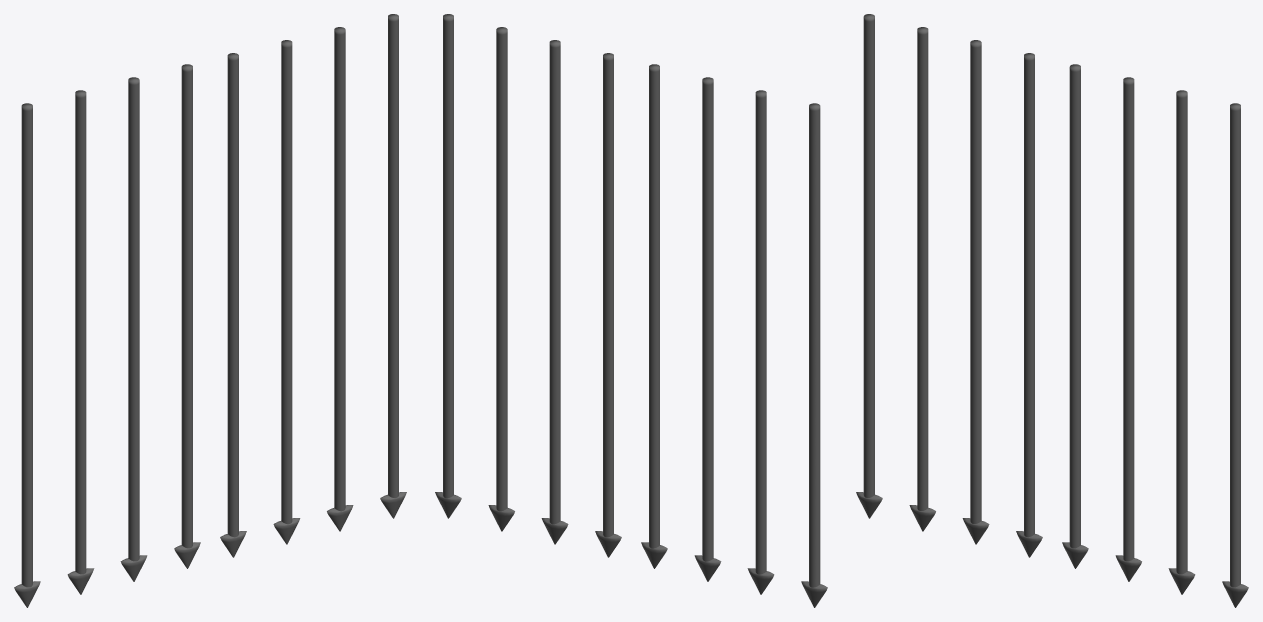
File: gate.fbx
3 views of the same model, side by side, from view 1: azimuth 30°, elevation 25°; view 2: azimuth 150°, elevation 25°; view 3: azimuth 330°, elevation 25° (orthographic).
Parts seen in each view (by area): view 1: Gate; view 2: Gate; view 3: Gate.
Part boxes in pixels (left/top/right/bottom): Gate: left=14, top=14, right=406, bottom=607; Gate: left=435, top=14, right=827, bottom=607; Gate: left=856, top=14, right=1248, bottom=607.
Size of the model in its own units: 308 by 376 by 8.23.
Materials: 1 (1 with a texture image).
